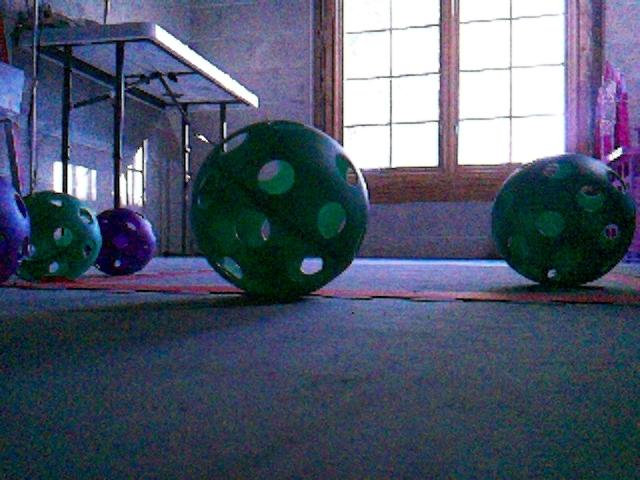Green: (187, 118, 370, 298), (487, 153, 635, 285), (15, 191, 102, 281)
Purple: (92, 208, 156, 276), (0, 176, 32, 286)
